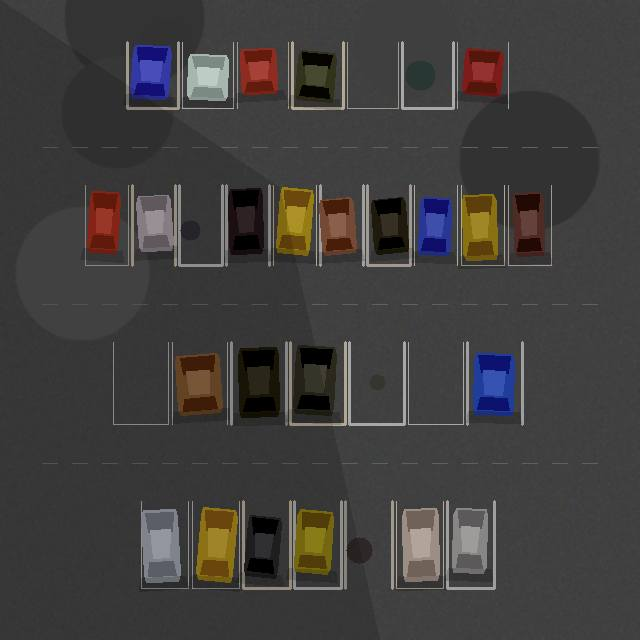space-empty: (113, 342, 168, 424), (349, 342, 404, 424), (408, 342, 463, 424), (345, 501, 392, 588), (179, 185, 222, 265), (347, 42, 398, 108), (402, 42, 453, 108)
space-occupied: (172, 342, 227, 424), (231, 342, 286, 424), (290, 342, 345, 424), (467, 342, 522, 424), (141, 501, 188, 588), (192, 501, 239, 588), (243, 501, 290, 588), (294, 501, 341, 588), (396, 501, 443, 588), (447, 501, 494, 588), (85, 185, 128, 265), (132, 185, 175, 265), (226, 185, 269, 265), (273, 185, 316, 265), (320, 185, 363, 265), (367, 185, 410, 265), (414, 185, 457, 265), (461, 185, 504, 265), (508, 185, 551, 265), (127, 42, 178, 108), (182, 42, 233, 108), (237, 42, 288, 108), (292, 42, 343, 108), (457, 42, 508, 108)
